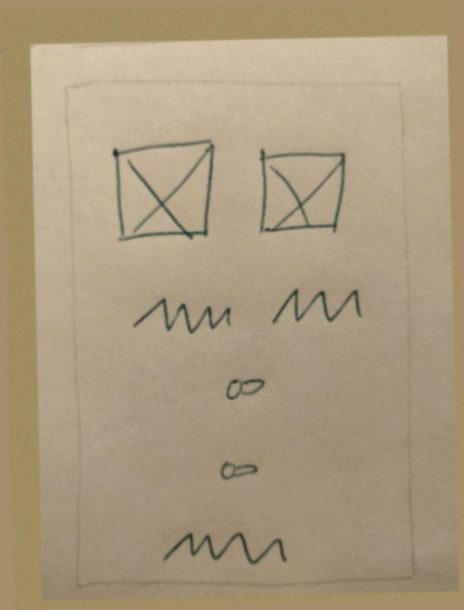image: (99, 136, 226, 245), (250, 138, 356, 244)
switch: (211, 366, 283, 408), (213, 452, 266, 486)
text: (152, 512, 298, 576), (122, 288, 244, 340), (263, 280, 372, 334)
